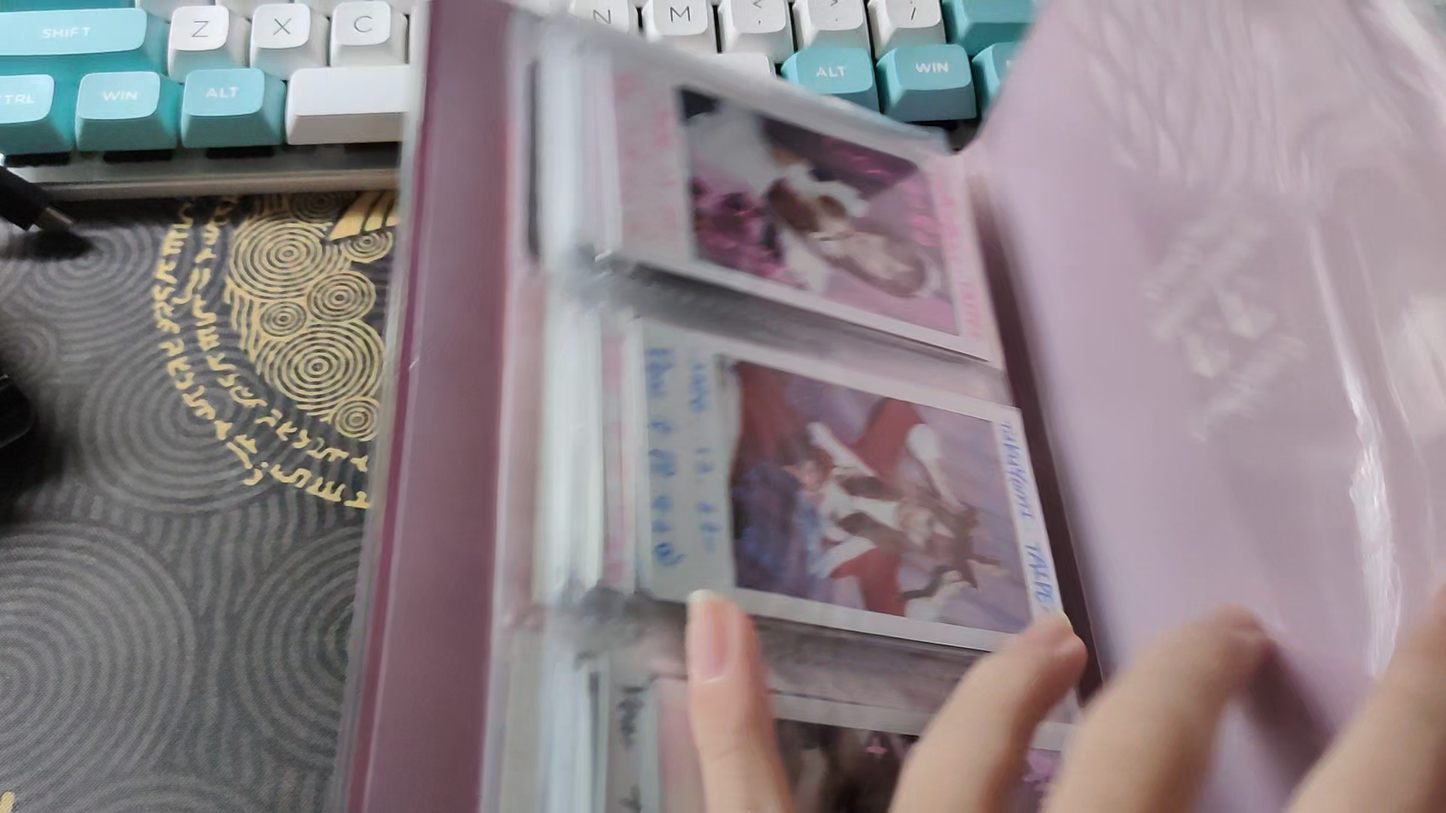Photo_book: (314, 0, 1446, 813)
